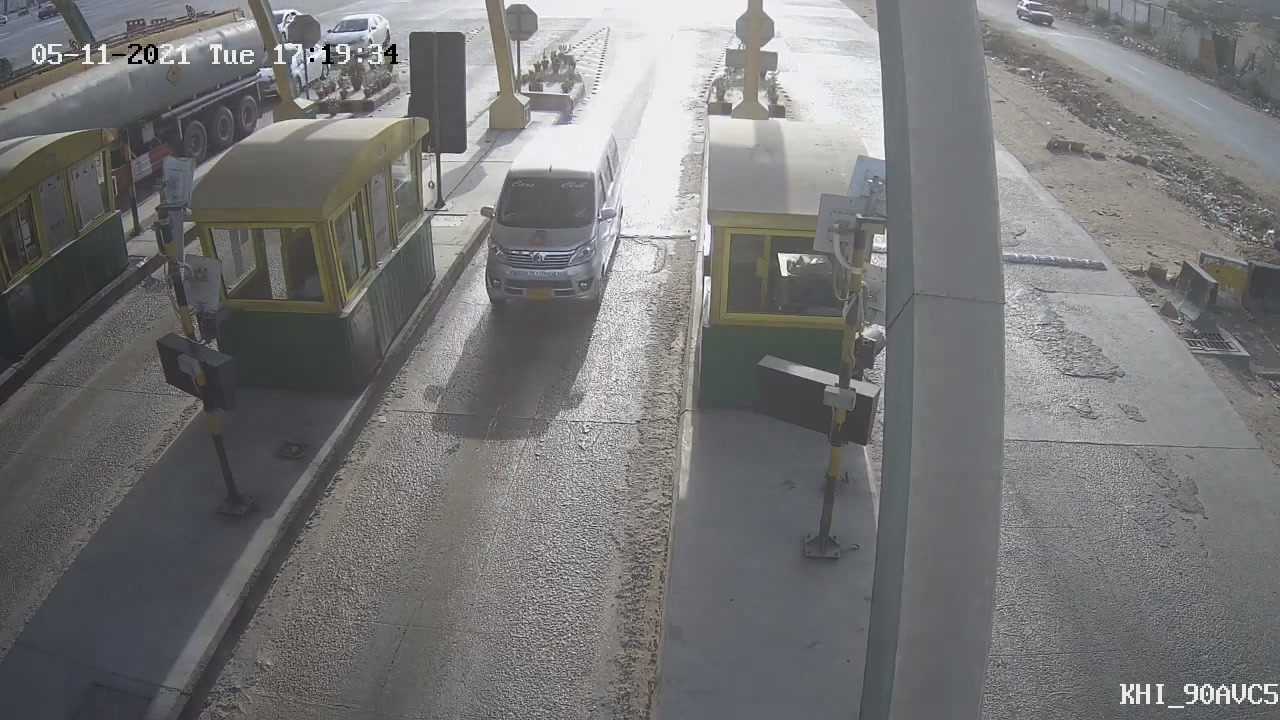F1: (452, 117, 648, 326)
